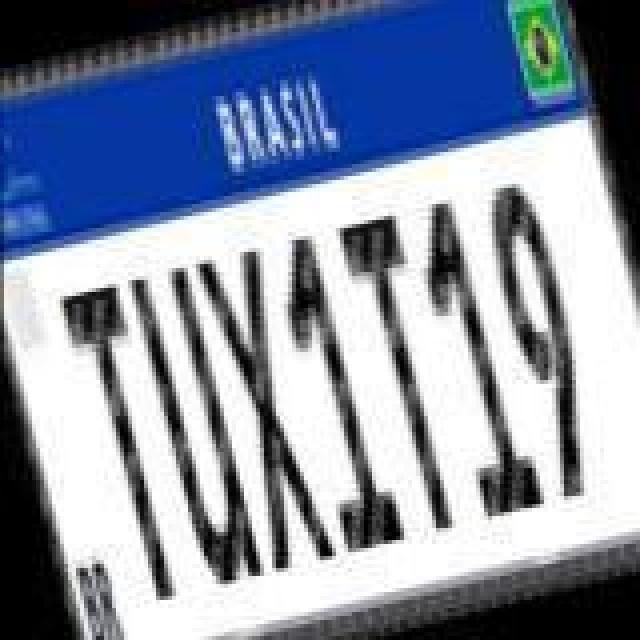1: (266, 224, 410, 560), (402, 188, 546, 524)
9: (476, 172, 616, 508)
T: (330, 208, 474, 544), (56, 274, 196, 606)
U: (124, 256, 264, 592)
X: (194, 242, 338, 574)
